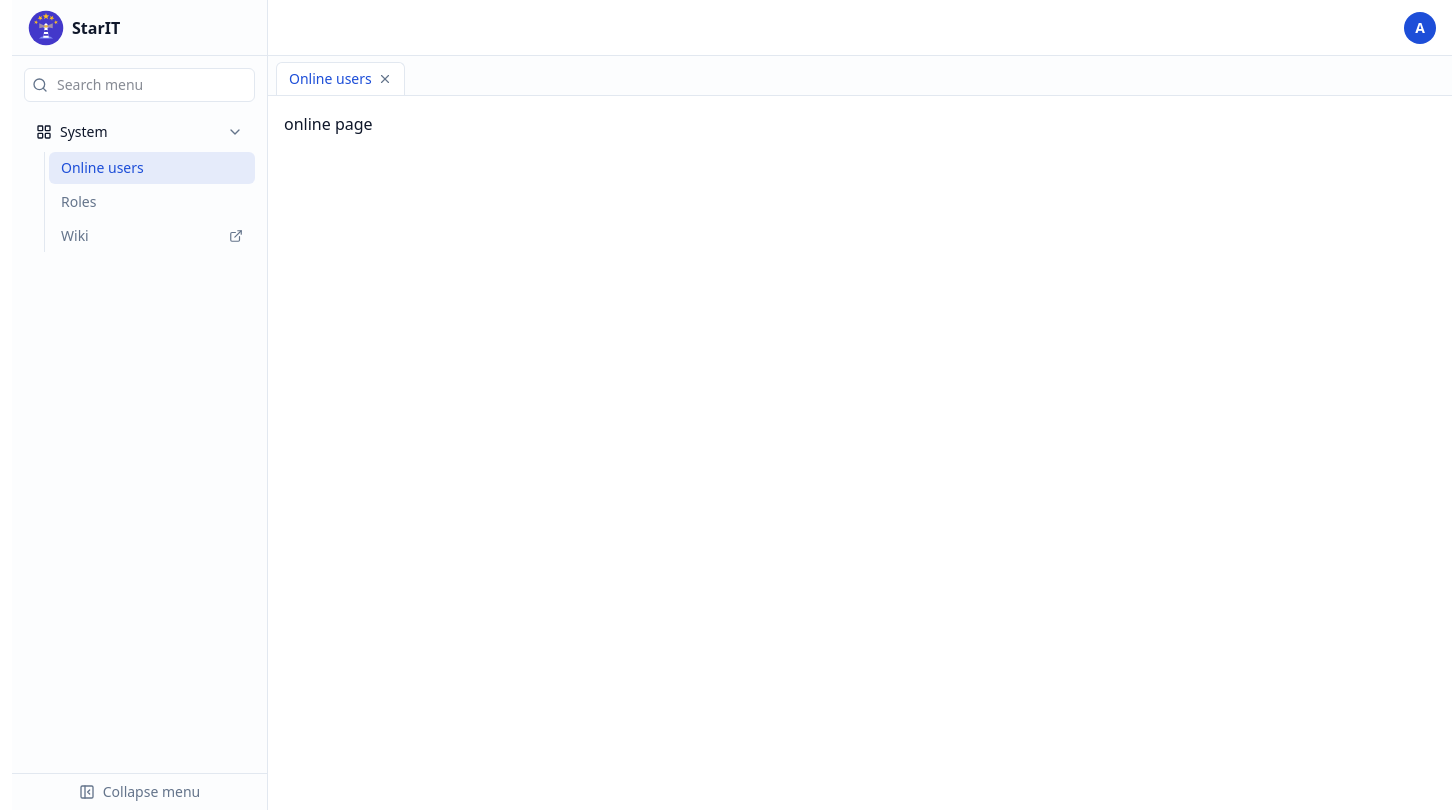
Scenario: MenuTreeShell › filters the menu by the search box and collapses to an icon-only column
Type "role" into the search field labelled "Search menu".
click(140, 85); type("role")  # box [24,68,255,102]
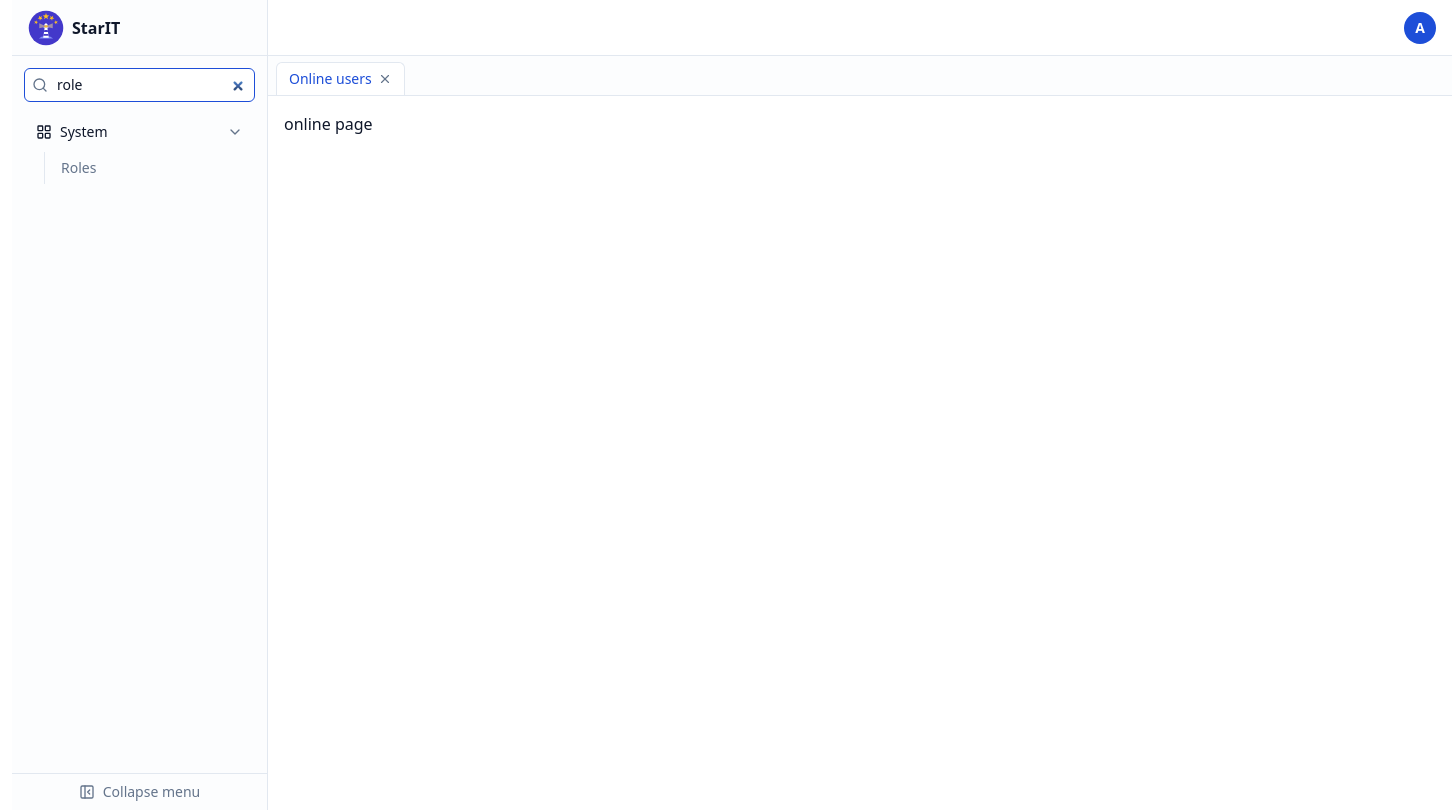
Expected: the button "Roles" is shown, [49,152,255,184]
Clear the search field named "Search menu" at (140, 85), box [24,68,255,102]
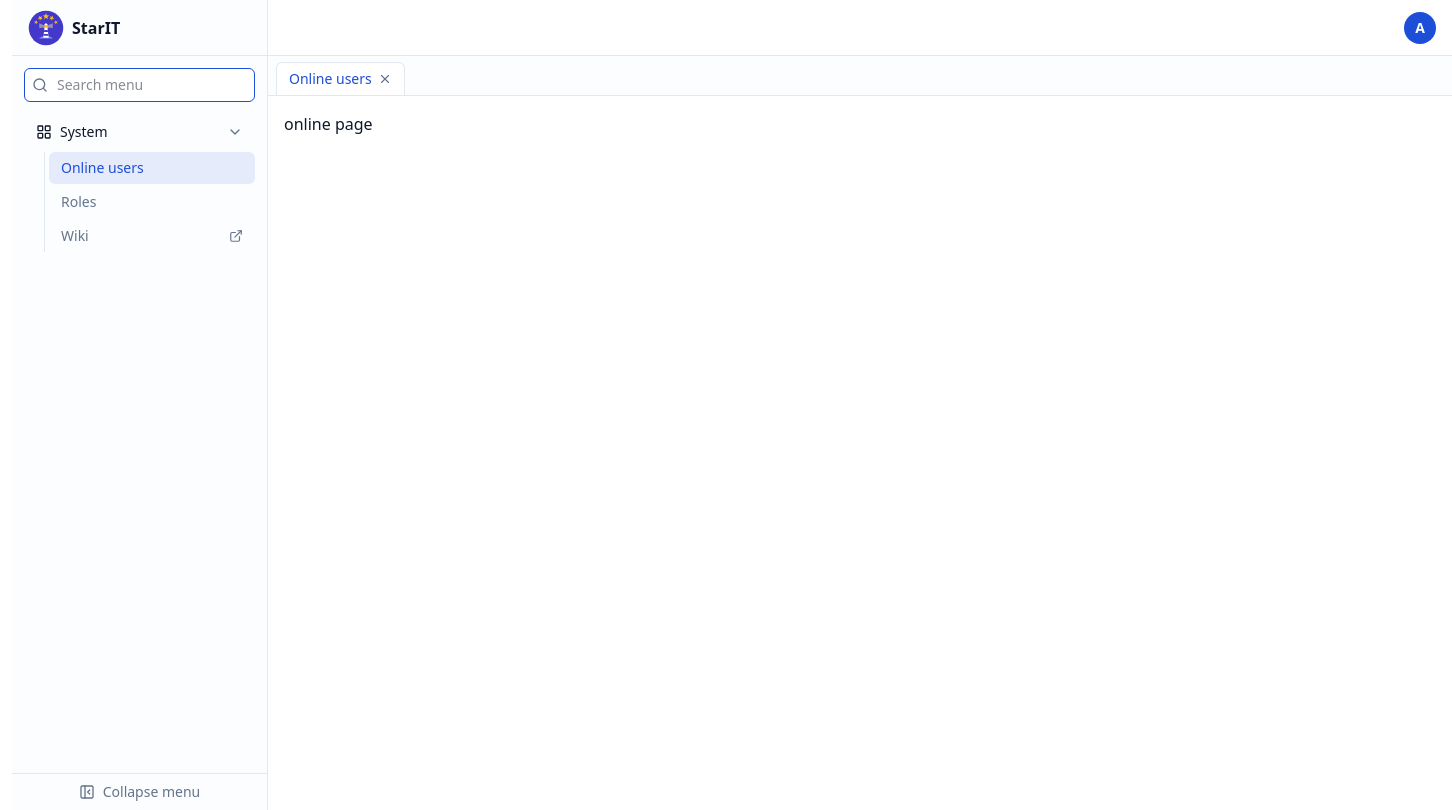
Click the button "Collapse menu".
click(140, 792)  # box [12,773,267,809]
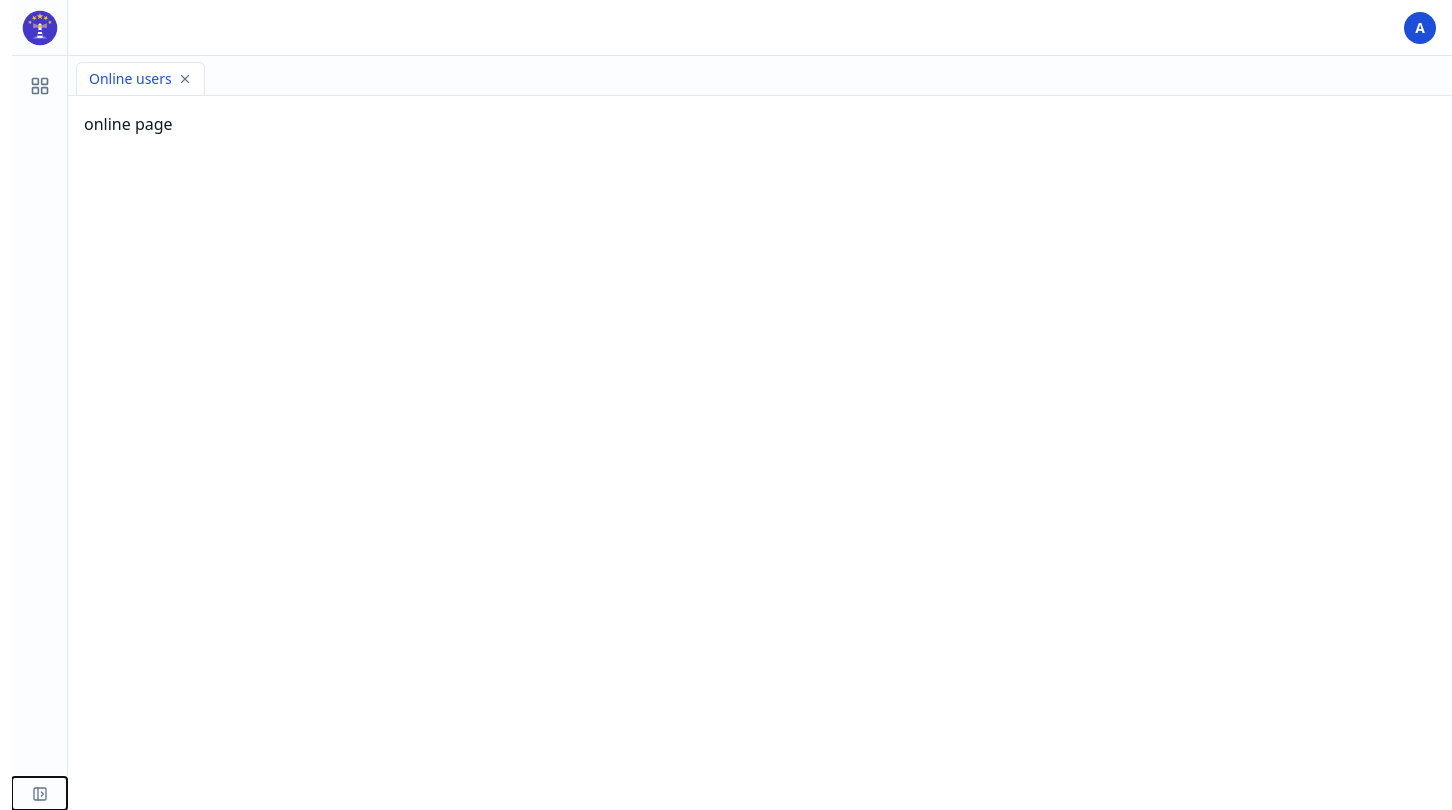
Expected: the button named "System" is shown, [20,68,59,104]
Click the button named "Expand menu".
click(40, 794)  # box [12,777,67,809]
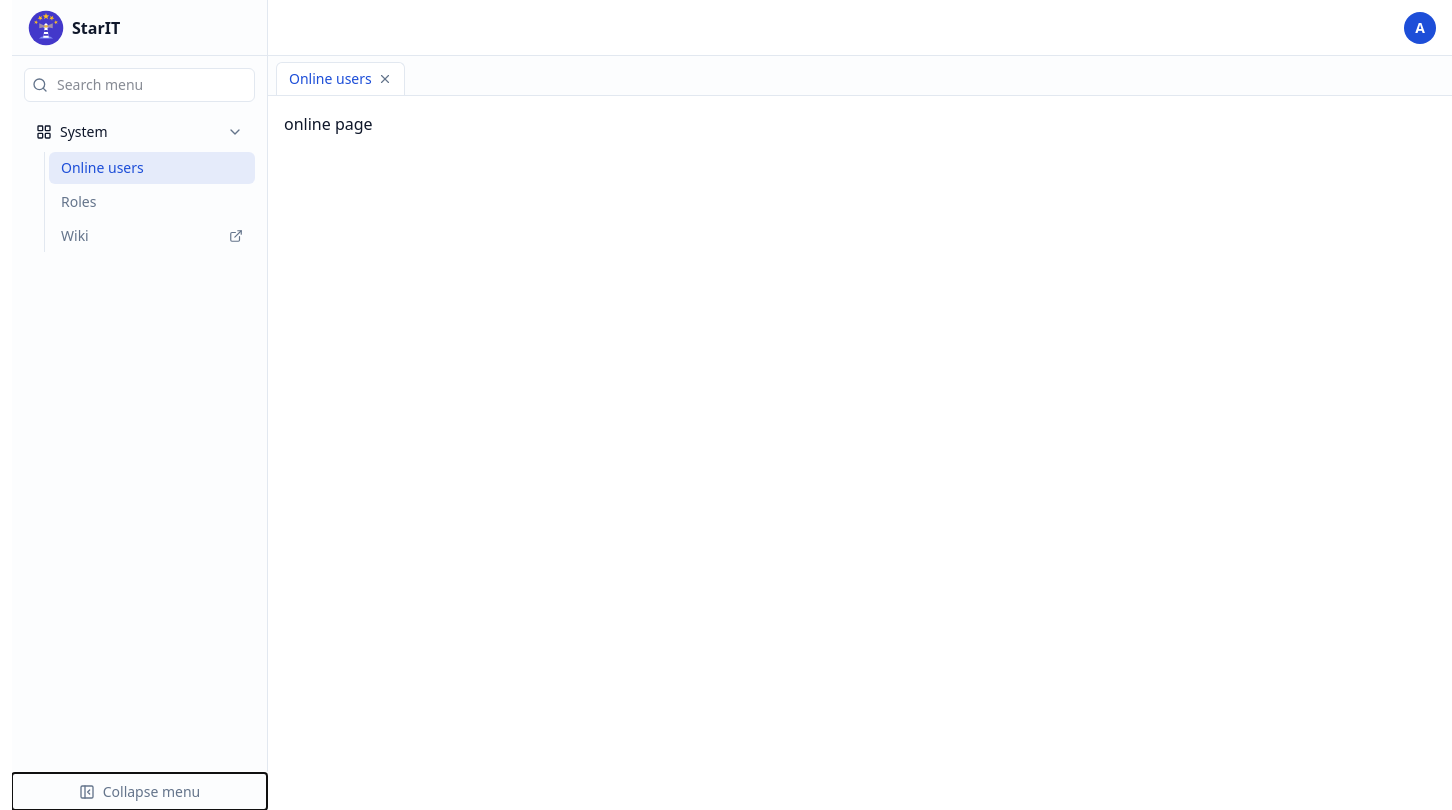
Expected: the search field is shown, [24,68,255,102]
